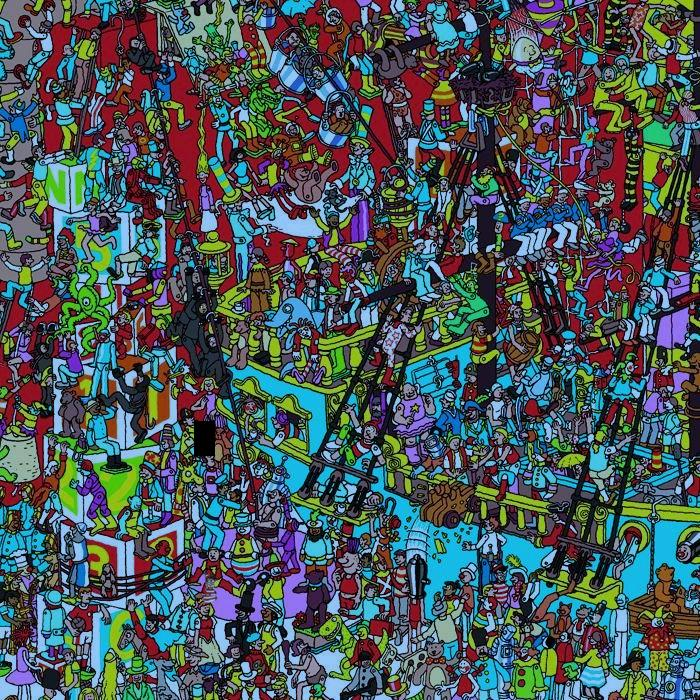waldos: (199, 571, 220, 606)
